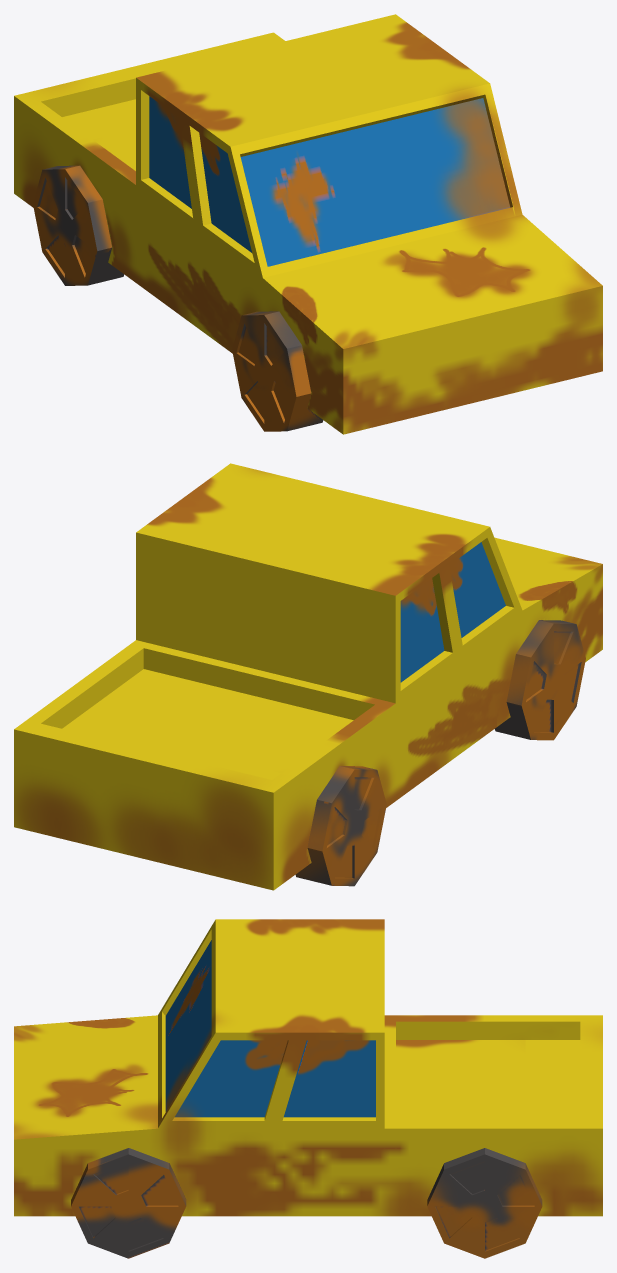
The model's file is sarıcar.2fbx.fbx.
3 renders of one model, top to bottom at view 1: azimuth 30°, elevation 25°; view 2: azimuth 150°, elevation 25°; view 3: azimuth 270°, elevation 25°, orthographic. The views are drawn at different scales.
Parts seen in each view (by area): view 1: Cylinder.003; view 2: Cylinder.003; view 3: Cylinder.003.
Part boxes in pixels (x1=…): Cylinder.003: x1=14, y1=14, x2=602, y2=434; Cylinder.003: x1=14, y1=463, x2=602, y2=890; Cylinder.003: x1=14, y1=919, x2=602, y2=1258.
Bounding box in the file's own units: 220 × 178 × 433.
1 material, 1 textured.
